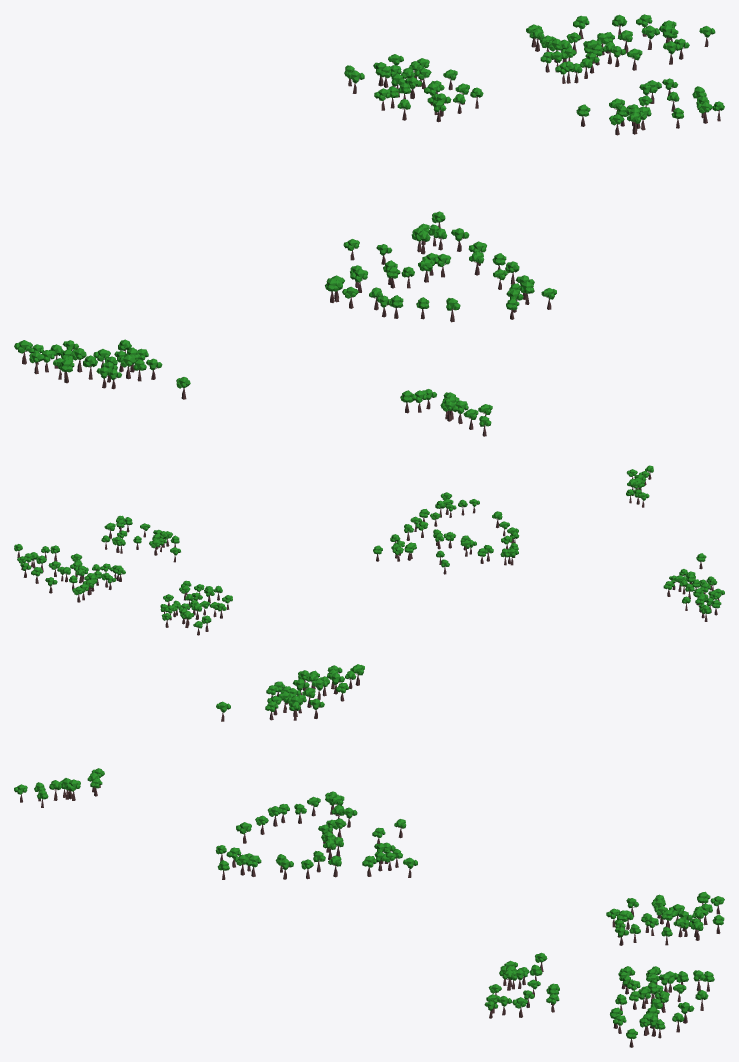
The model's file is SM_Trees.fbx.
3 views of the same model, one above another, from view 1: azimuth 30°, elevation 25°; view 2: azimuth 150°, elevation 25°; view 3: azimuth 270°, elevation 25° (orthographic). The views are drawn at different scales.
Parts seen in each view (by area): view 1: SM_Trees; view 2: SM_Trees; view 3: SM_Trees.
Boxes of the visible parts, x1,y1,x2,y2 form: SM_Trees: [14, 14, 724, 436]; SM_Trees: [14, 465, 724, 635]; SM_Trees: [14, 664, 724, 1047].
Size of the model in its own units: 23795 by 636 by 19374.
